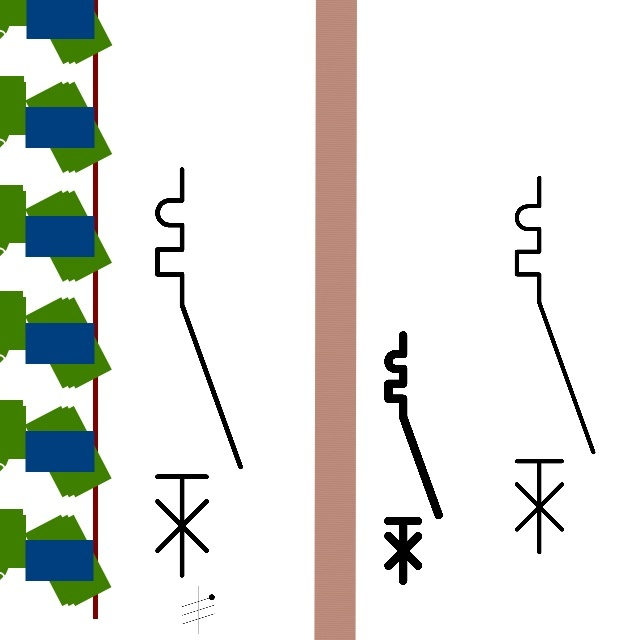interruptor_termomagnetico: (147, 159, 251, 586), (507, 168, 603, 562), (382, 329, 445, 587)
